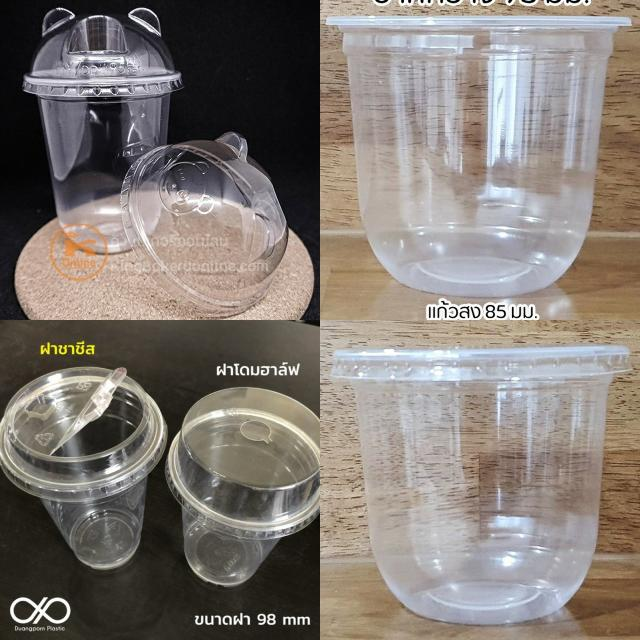Single-Use-Plastic: (328, 16, 630, 297), (331, 345, 631, 624), (22, 8, 182, 252), (0, 368, 166, 569), (121, 132, 289, 316), (166, 388, 320, 586)
